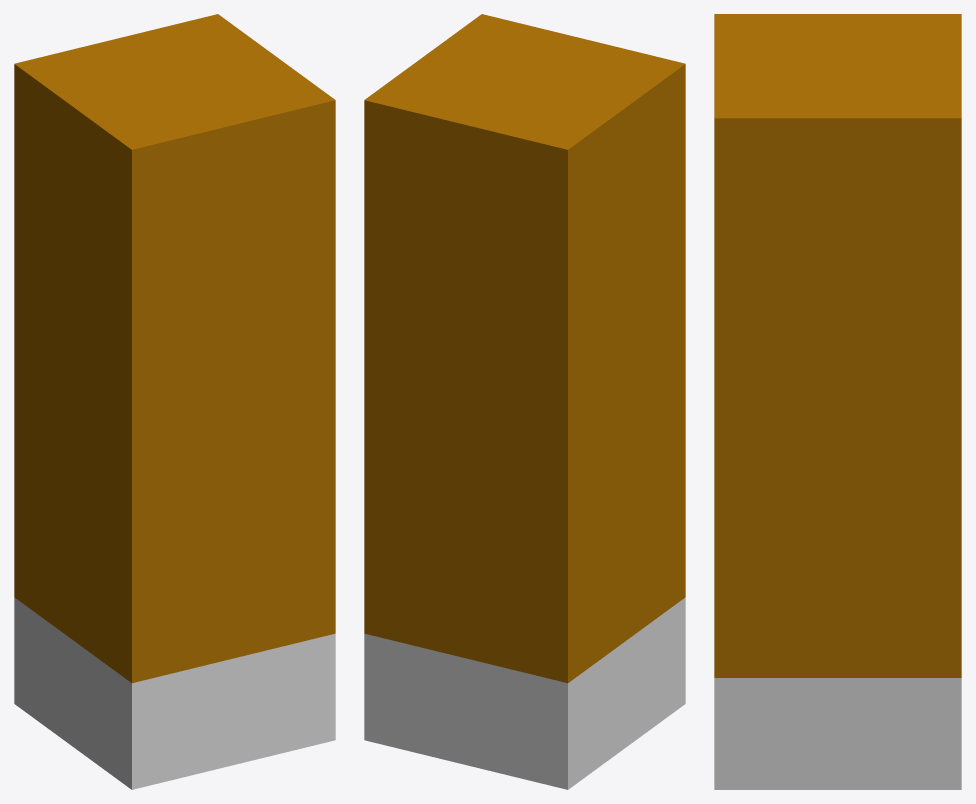
Rendered from cat_leg.fbx.
3 renders of one model, left to right at view 1: azimuth 30°, elevation 25°; view 2: azimuth 150°, elevation 25°; view 3: azimuth 270°, elevation 25°, orthographic. The views are drawn at different scales.
Visible parts, largest first — view 1: cat_F_L; view 2: cat_F_L; view 3: cat_F_L.
Part boxes in pixels (left/top/right/bottom): cat_F_L: left=14, top=14, right=335, bottom=789; cat_F_L: left=364, top=14, right=685, bottom=789; cat_F_L: left=714, top=14, right=961, bottom=789.
Bounding box in the file's own units: 0.2 × 0.6 × 0.2.
